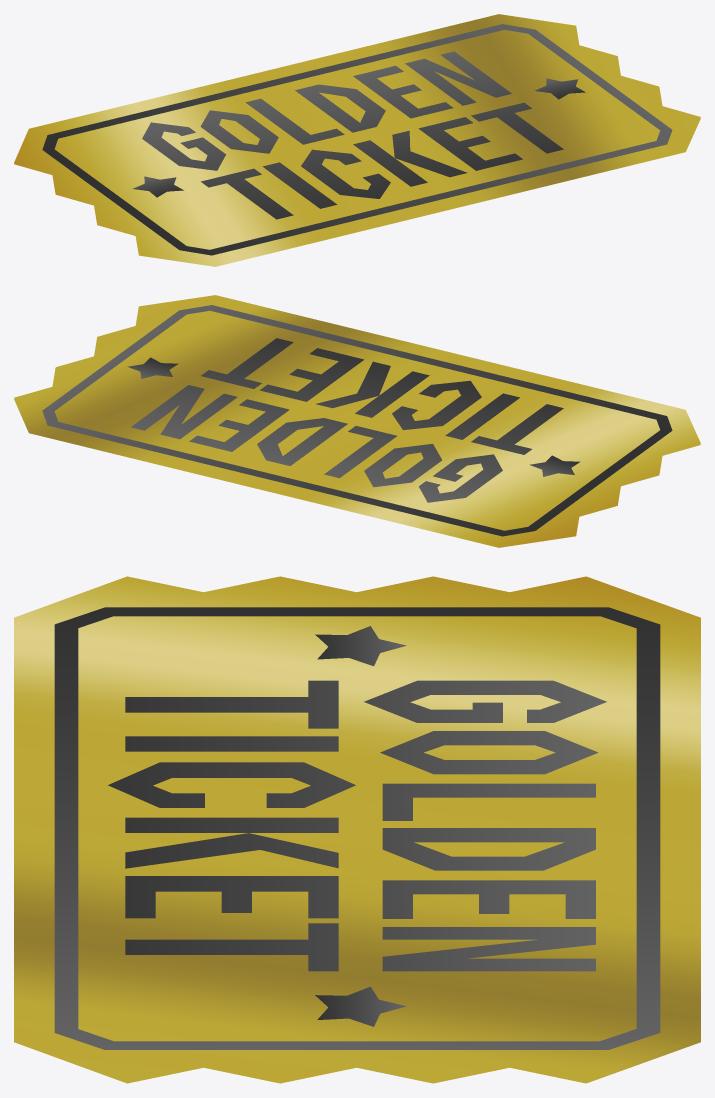
The model's file is x_goldenticket_pickup.fbx.
3 views of the same model, one above another, from view 1: azimuth 30°, elevation 25°; view 2: azimuth 150°, elevation 25°; view 3: azimuth 270°, elevation 25° (orthographic). The views are drawn at different scales.
Visible parts, largest first — view 1: x_goldenticket_pickup; view 2: x_goldenticket_pickup; view 3: x_goldenticket_pickup.
Boxes of the visible parts, x1,y1,x2,y2 form: x_goldenticket_pickup: [14, 14, 700, 266]; x_goldenticket_pickup: [14, 295, 700, 547]; x_goldenticket_pickup: [14, 576, 700, 1083].
Bounding box in the file's own units: 50.4 × 0.3112 × 29.
1 material, 1 textured.
